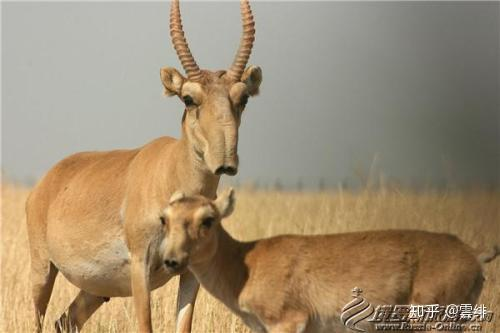saiga: (5, 5, 282, 333), (156, 184, 500, 333)
